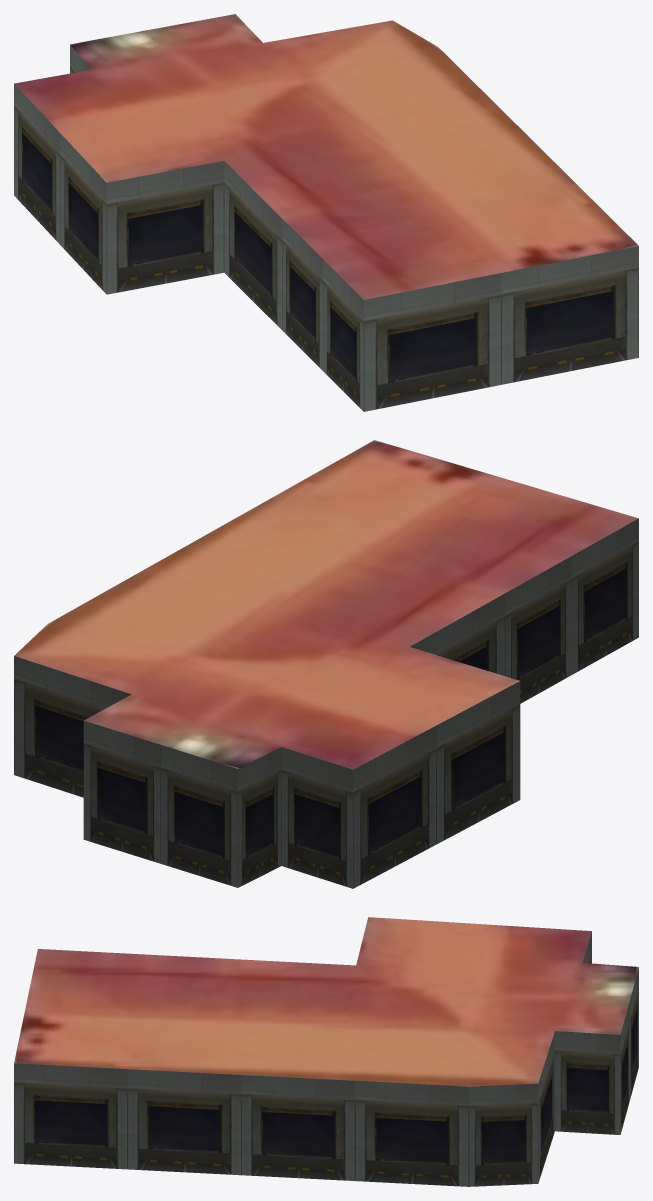
File: T_1T2HB4NWSF.dae
3 views of the same model, one above another, from view 1: azimuth 30°, elevation 25°; view 2: azimuth 150°, elevation 25°; view 3: azimuth 270°, elevation 25° (orthographic). The views are drawn at different scales.
Visible parts, largest first — view 1: SketchUp (×6); view 2: SketchUp (×8); view 3: SketchUp (×6).
Boxes of the visible parts, left/top/right/bottom form: SketchUp (×6): left=14, top=14, right=638, bottom=411; SketchUp (×8): left=14, top=440, right=638, bottom=888; SketchUp (×6): left=14, top=917, right=638, bottom=1186.
Size of the model in its own units: 16.9 by 26.32 by 4.66.
Materials: 2 (2 with a texture image).
